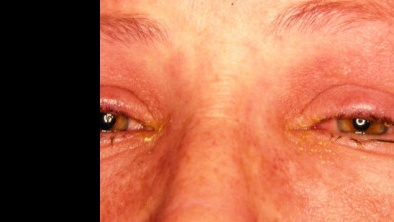SJS-TEN: (242, 11, 394, 222), (98, 41, 196, 222)
